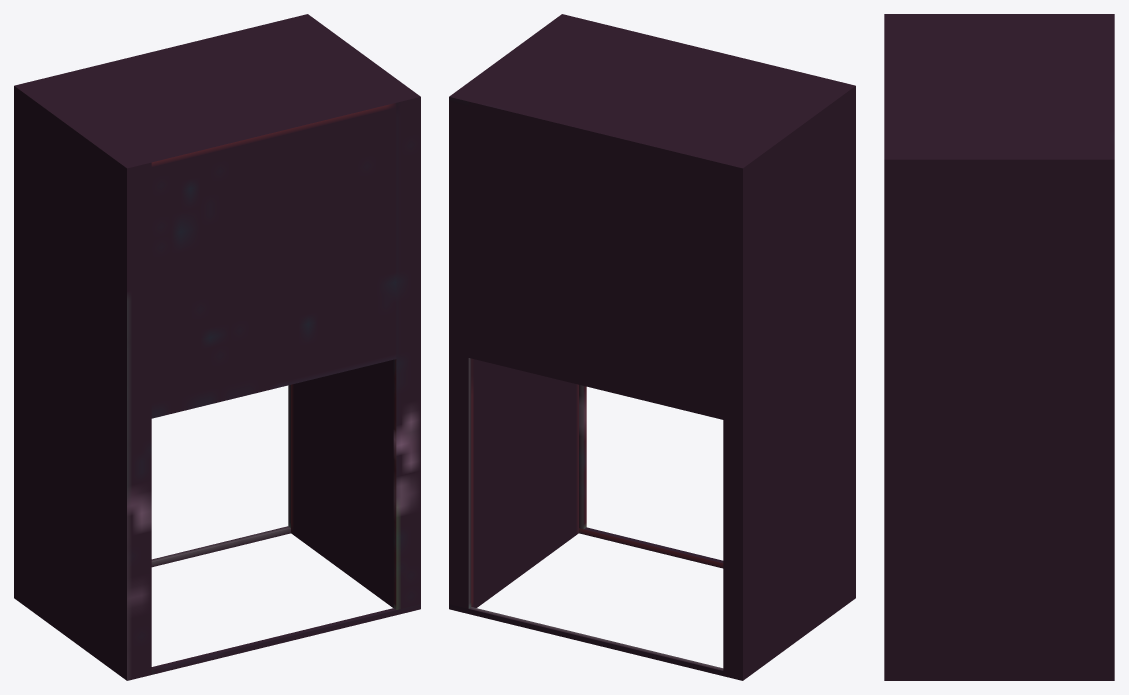
The model's file is BuildingModule_I_00.fbx.
3 renders of one model, left to right at view 1: azimuth 30°, elevation 25°; view 2: azimuth 150°, elevation 25°; view 3: azimuth 270°, elevation 25°, orthographic.
Visible parts, largest first — view 1: BuildingModule_I_00; view 2: BuildingModule_I_00; view 3: BuildingModule_I_00.
Boxes of the visible parts, x1=… form: BuildingModule_I_00: x1=14, y1=14, x2=420, y2=680; BuildingModule_I_00: x1=449, y1=14, x2=855, y2=680; BuildingModule_I_00: x1=884, y1=14, x2=1114, y2=680.
Bounding box in the file's own units: 300 × 500 × 200.
